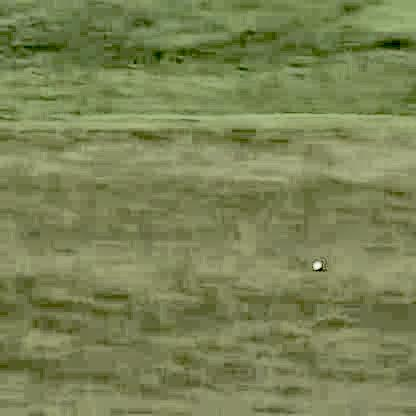golfball: (308, 259, 319, 269)
